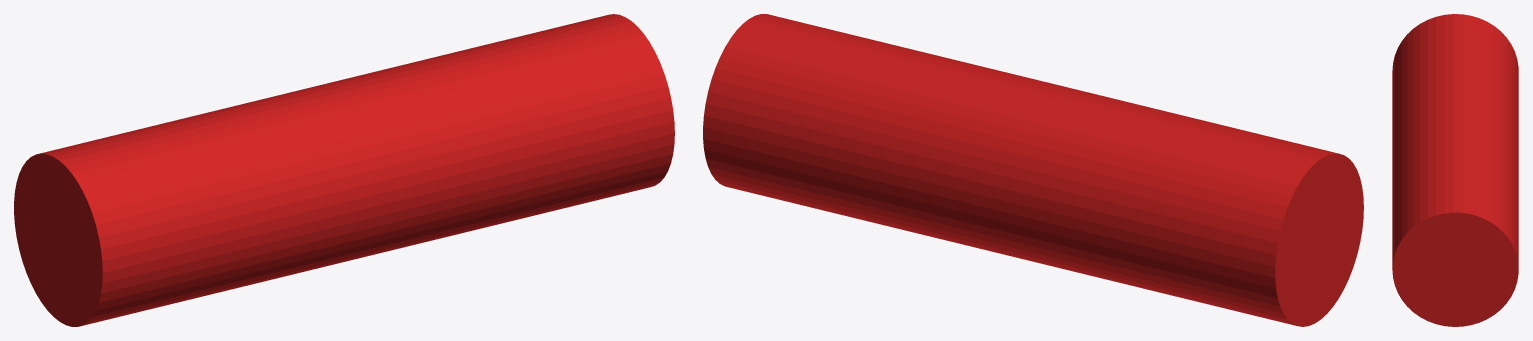
The model's file is peg_50_canonical_colored.obj.
3 views of the same model, side by side, from view 1: azimuth 30°, elevation 25°; view 2: azimuth 150°, elevation 25°; view 3: azimuth 270°, elevation 25° (orthographic). The views are drawn at different scales.
Bounding box in the file's own units: 0.15 × 0.0403 × 0.0403.
